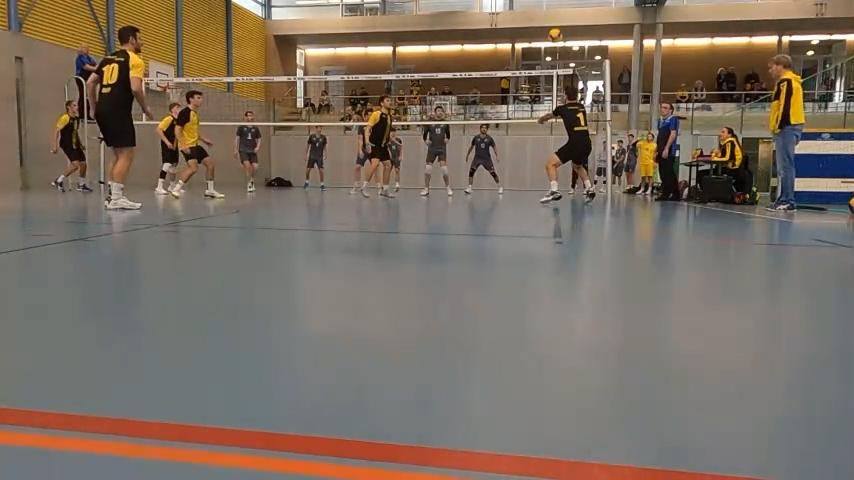Dig: (531, 79, 607, 204)
Player: (87, 26, 153, 209), (170, 90, 223, 198), (51, 100, 91, 191), (361, 95, 394, 197), (421, 105, 452, 195), (464, 124, 502, 193), (155, 103, 180, 194), (234, 111, 261, 192), (303, 125, 327, 190), (349, 125, 369, 194), (389, 127, 402, 191)
ball: (546, 27, 563, 44)
